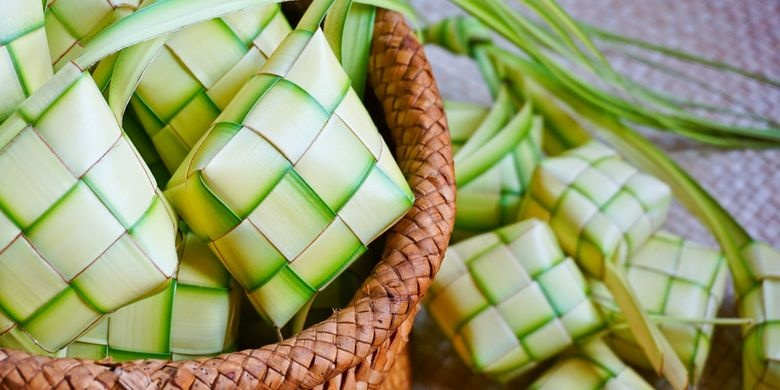ketupat: (161, 25, 415, 334), (420, 215, 606, 379), (515, 137, 670, 280)
